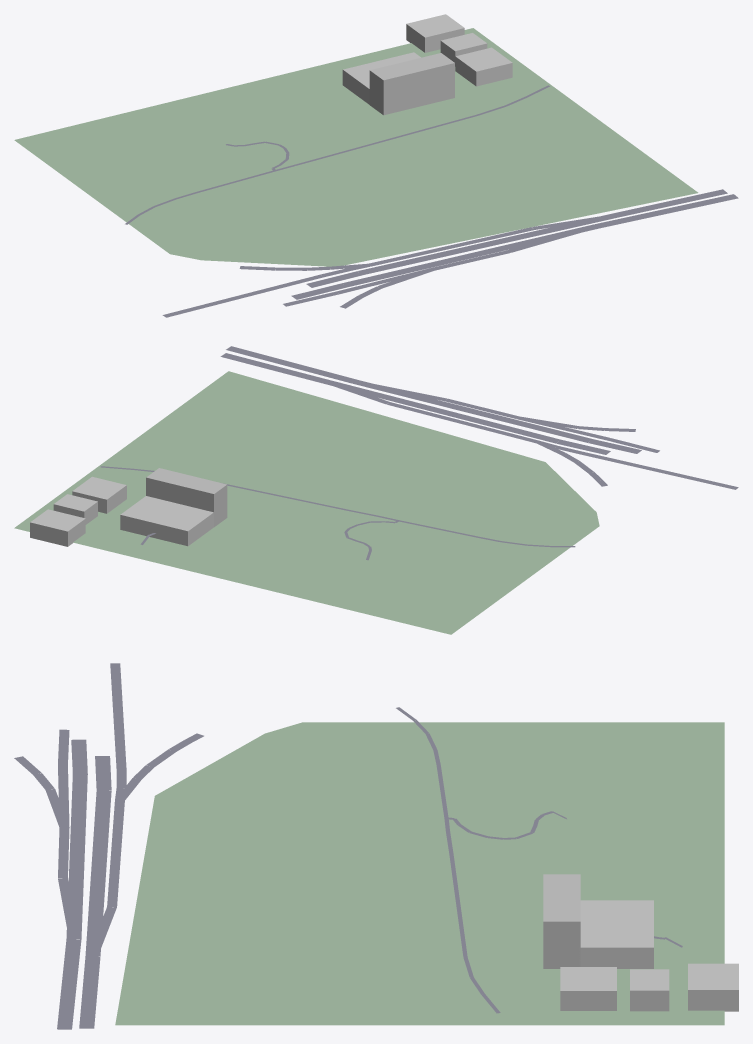
The model's file is 122_128_mid.glb.
3 views of the same model, one above another, from view 1: azimuth 30°, elevation 25°; view 2: azimuth 150°, elevation 25°; view 3: azimuth 270°, elevation 25° (orthographic). The views are drawn at different scales.
Size of the model in its own units: 603 by 37.27 by 506.
